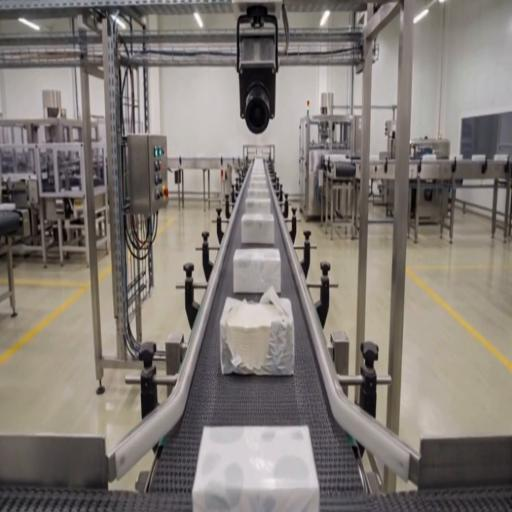defective: (194, 423, 318, 511), (219, 290, 295, 376)
good: (233, 248, 282, 296), (240, 212, 276, 246), (244, 192, 272, 213), (247, 164, 270, 186), (246, 181, 271, 200), (250, 159, 268, 170)
